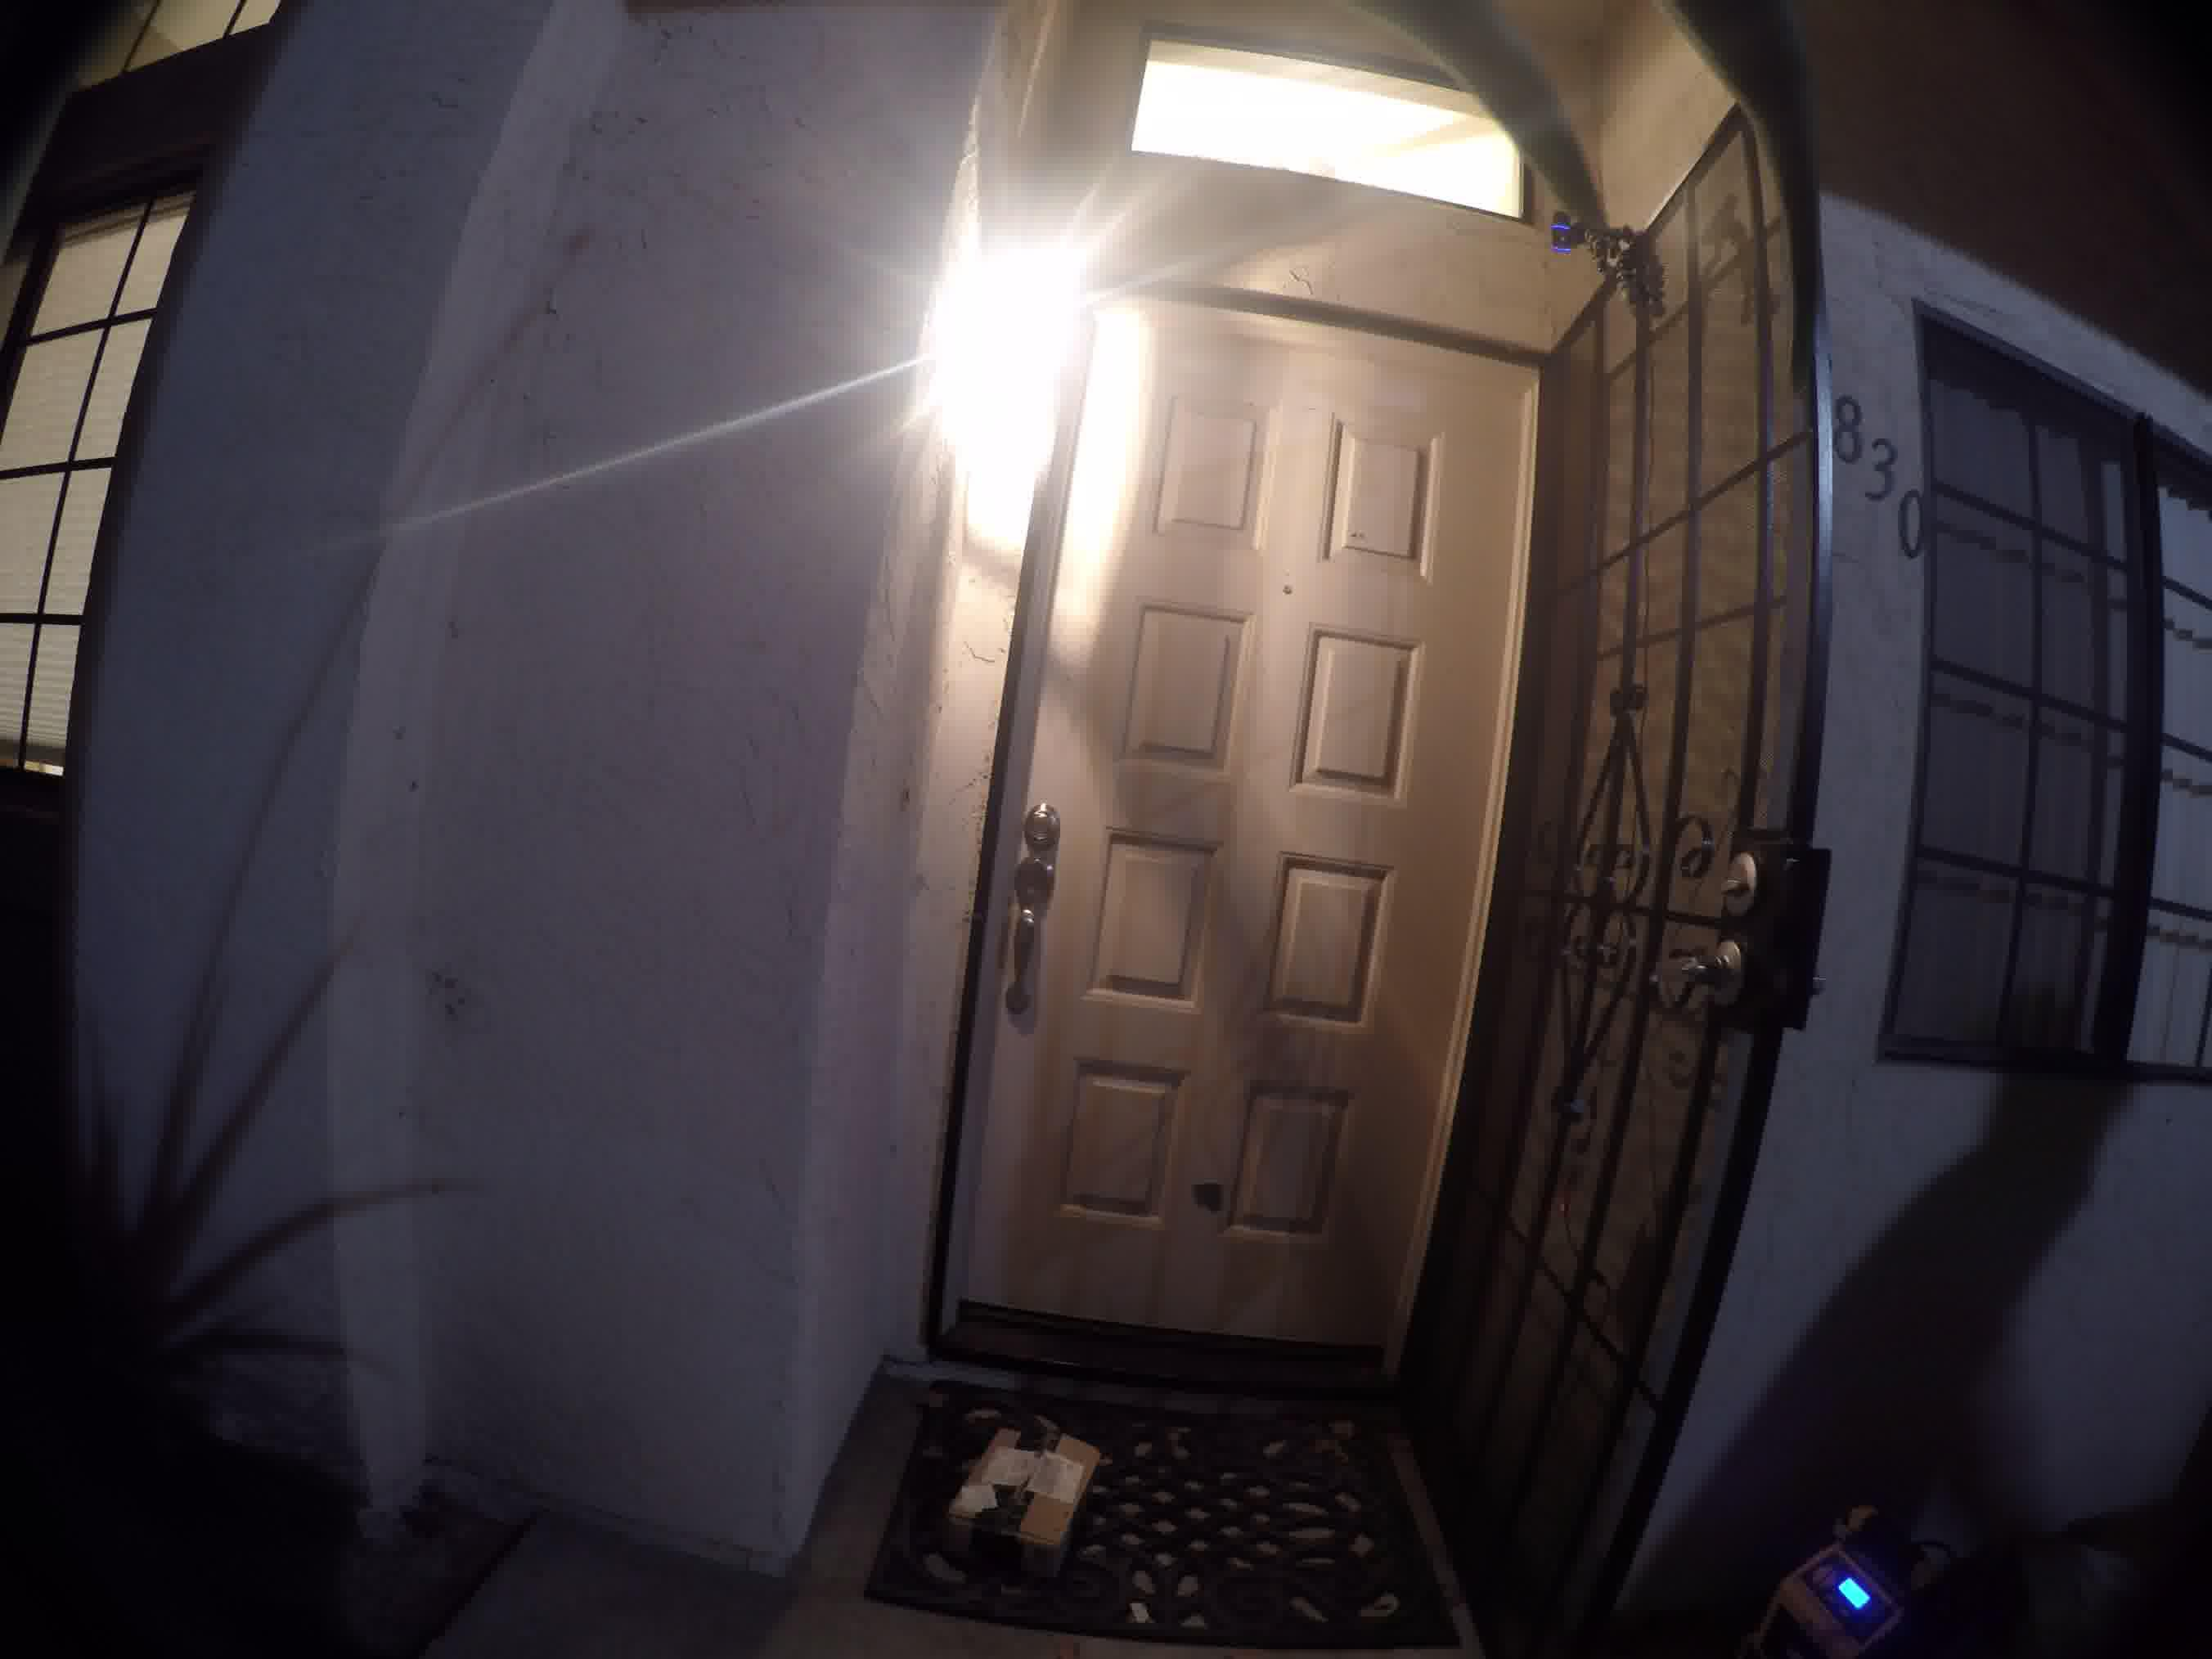box: (951, 1417, 1106, 1568)
